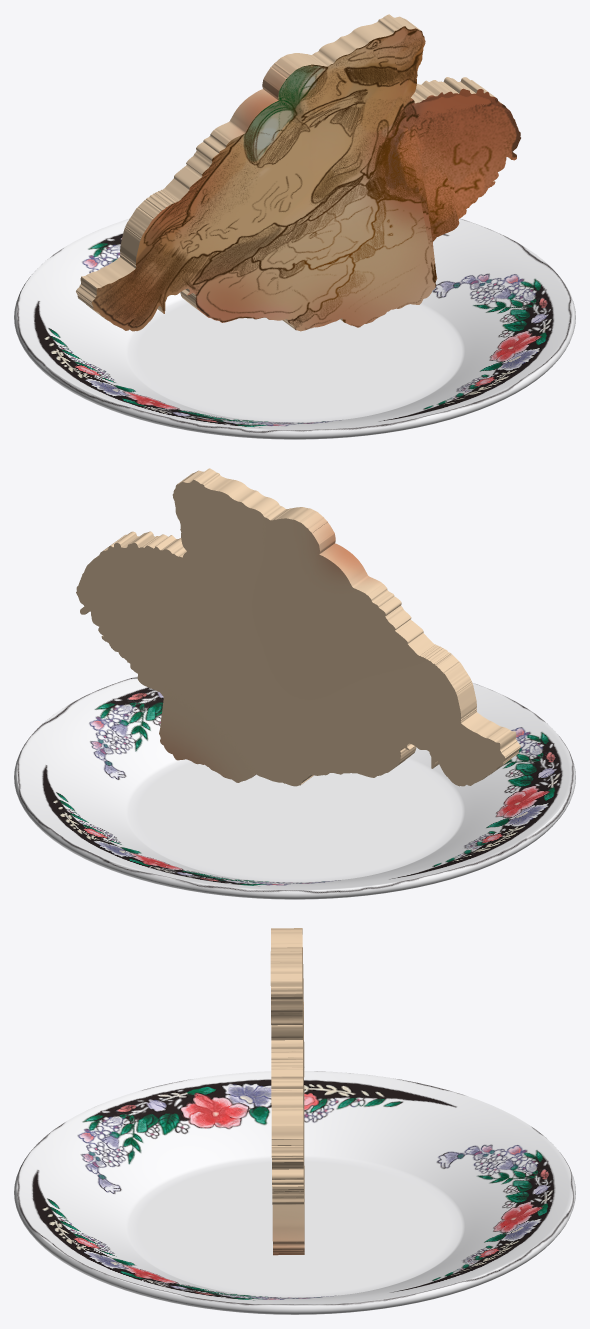
File: mojarra frita.glb
3 views of the same model, one above another, from view 1: azimuth 30°, elevation 25°; view 2: azimuth 150°, elevation 25°; view 3: azimuth 270°, elevation 25° (orthographic).
Visible parts, largest first — view 1: Mojarra frita, Plato.001; view 2: Mojarra frita, Plato.001; view 3: Plato.001, Mojarra frita.
Boxes of the visible parts, bbox=[...] form: Mojarra frita: bbox=[76, 14, 520, 331]; Plato.001: bbox=[14, 218, 575, 439]; Mojarra frita: bbox=[76, 468, 520, 786]; Plato.001: bbox=[14, 676, 575, 899]; Plato.001: bbox=[14, 1071, 575, 1314]; Mojarra frita: bbox=[270, 928, 304, 1255].
Size of the model in its own units: 18.56 by 11.69 by 18.56.
2 materials, 2 textured.
